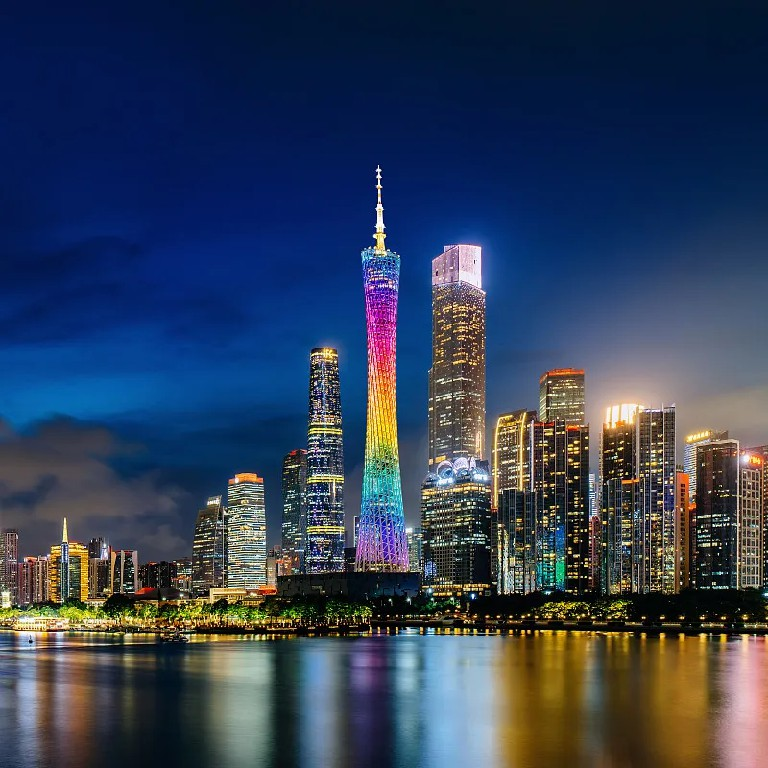Canton: (356, 163, 414, 575)
